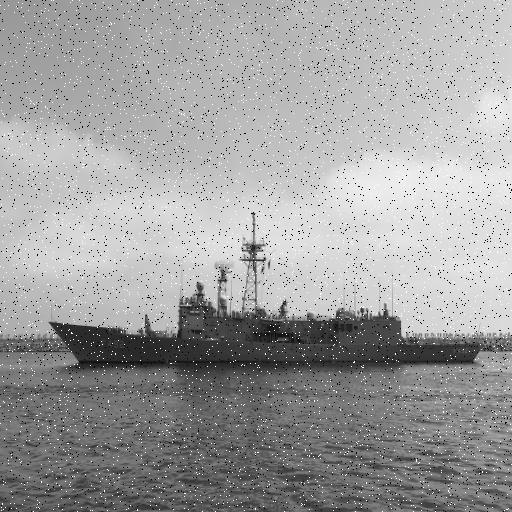Fragata: (46, 204, 485, 374)
